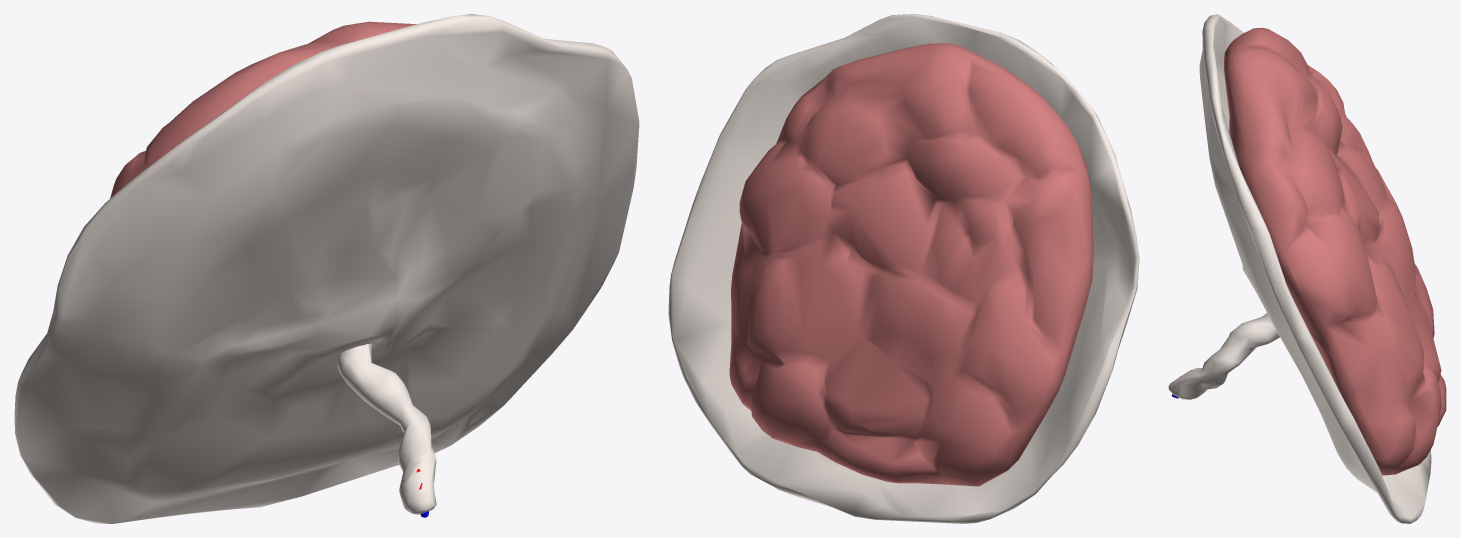
Rendered from placenta.glb.
The picture shows the model from 3 angles, left to right: view 1: azimuth 30°, elevation 25°; view 2: azimuth 150°, elevation 25°; view 3: azimuth 270°, elevation 25°; orthographic projection. The views are drawn at different scales.
Visible parts, largest first — view 1: VH_F_amnion, VH_F_basal_plate; view 2: VH_F_basal_plate, VH_F_amnion; view 3: VH_F_basal_plate, VH_F_amnion.
Part boxes in pixels (box(x1,y1,x2,y2)): VH_F_amnion: box(14, 14, 639, 523); VH_F_basal_plate: box(110, 21, 416, 198); VH_F_basal_plate: box(729, 43, 1093, 486); VH_F_amnion: box(668, 14, 1139, 523); VH_F_basal_plate: box(1224, 27, 1446, 475); VH_F_amnion: box(1168, 14, 1431, 523).
Size of the model in its own units: 0.2507 by 0.2304 by 0.1333.
